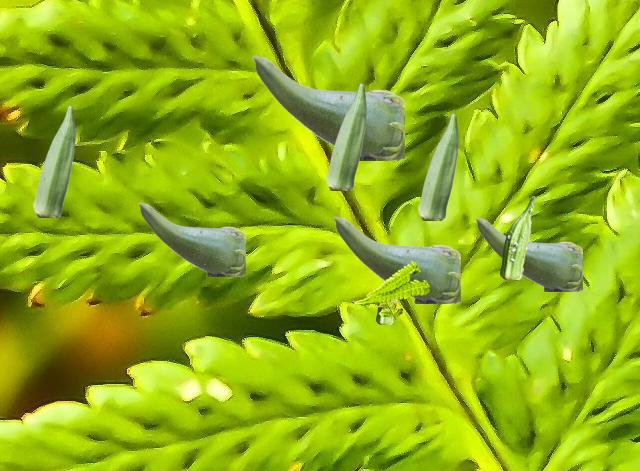okra: (252, 55, 403, 159), (333, 216, 459, 302), (475, 217, 581, 290), (138, 202, 244, 275), (33, 105, 74, 216), (418, 113, 457, 219), (326, 83, 365, 189), (500, 196, 534, 278), (376, 300, 397, 323)
